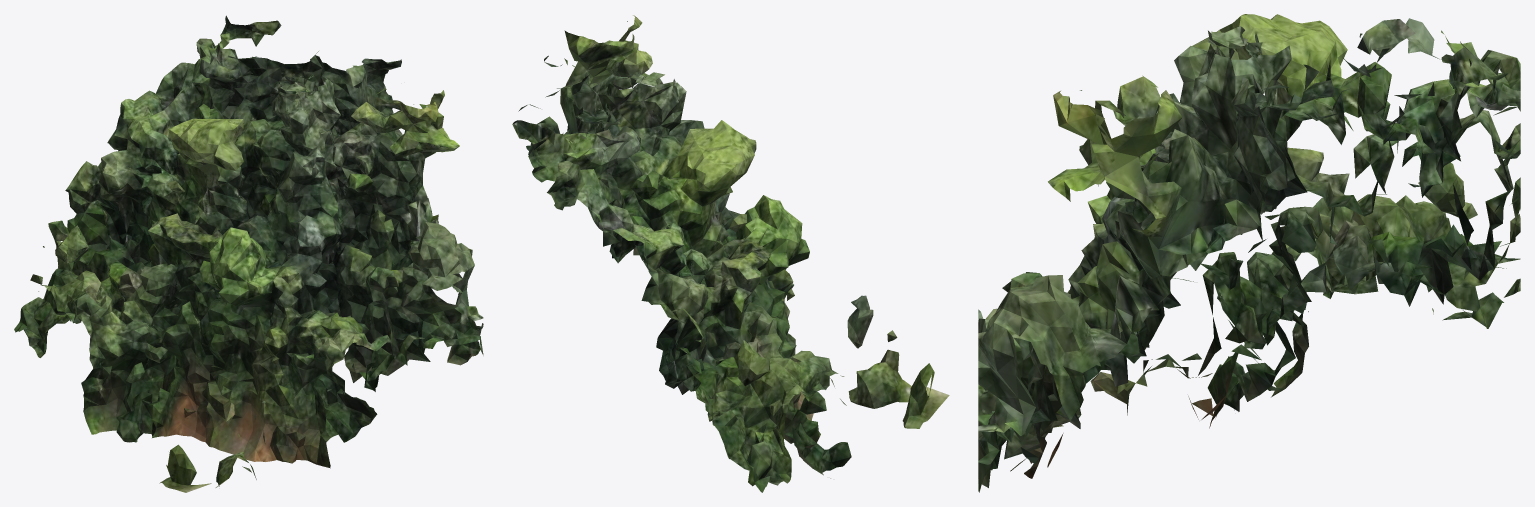
3 renders of one model, left to right at view 1: azimuth 30°, elevation 25°; view 2: azimuth 150°, elevation 25°; view 3: azimuth 270°, elevation 25°, orthographic. The views are drawn at different scales.
Bounding box in the file's own units: 52.22 × 52.22 × 52.22.
9 materials, 9 textured.
